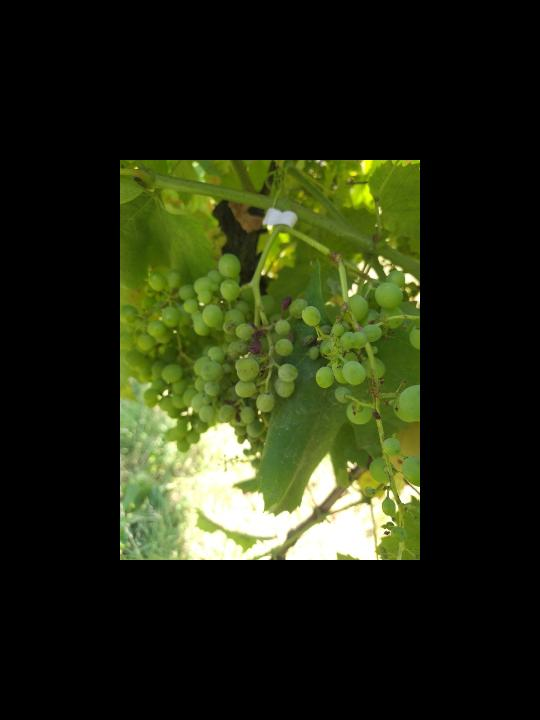grape: (178, 254, 309, 439)
